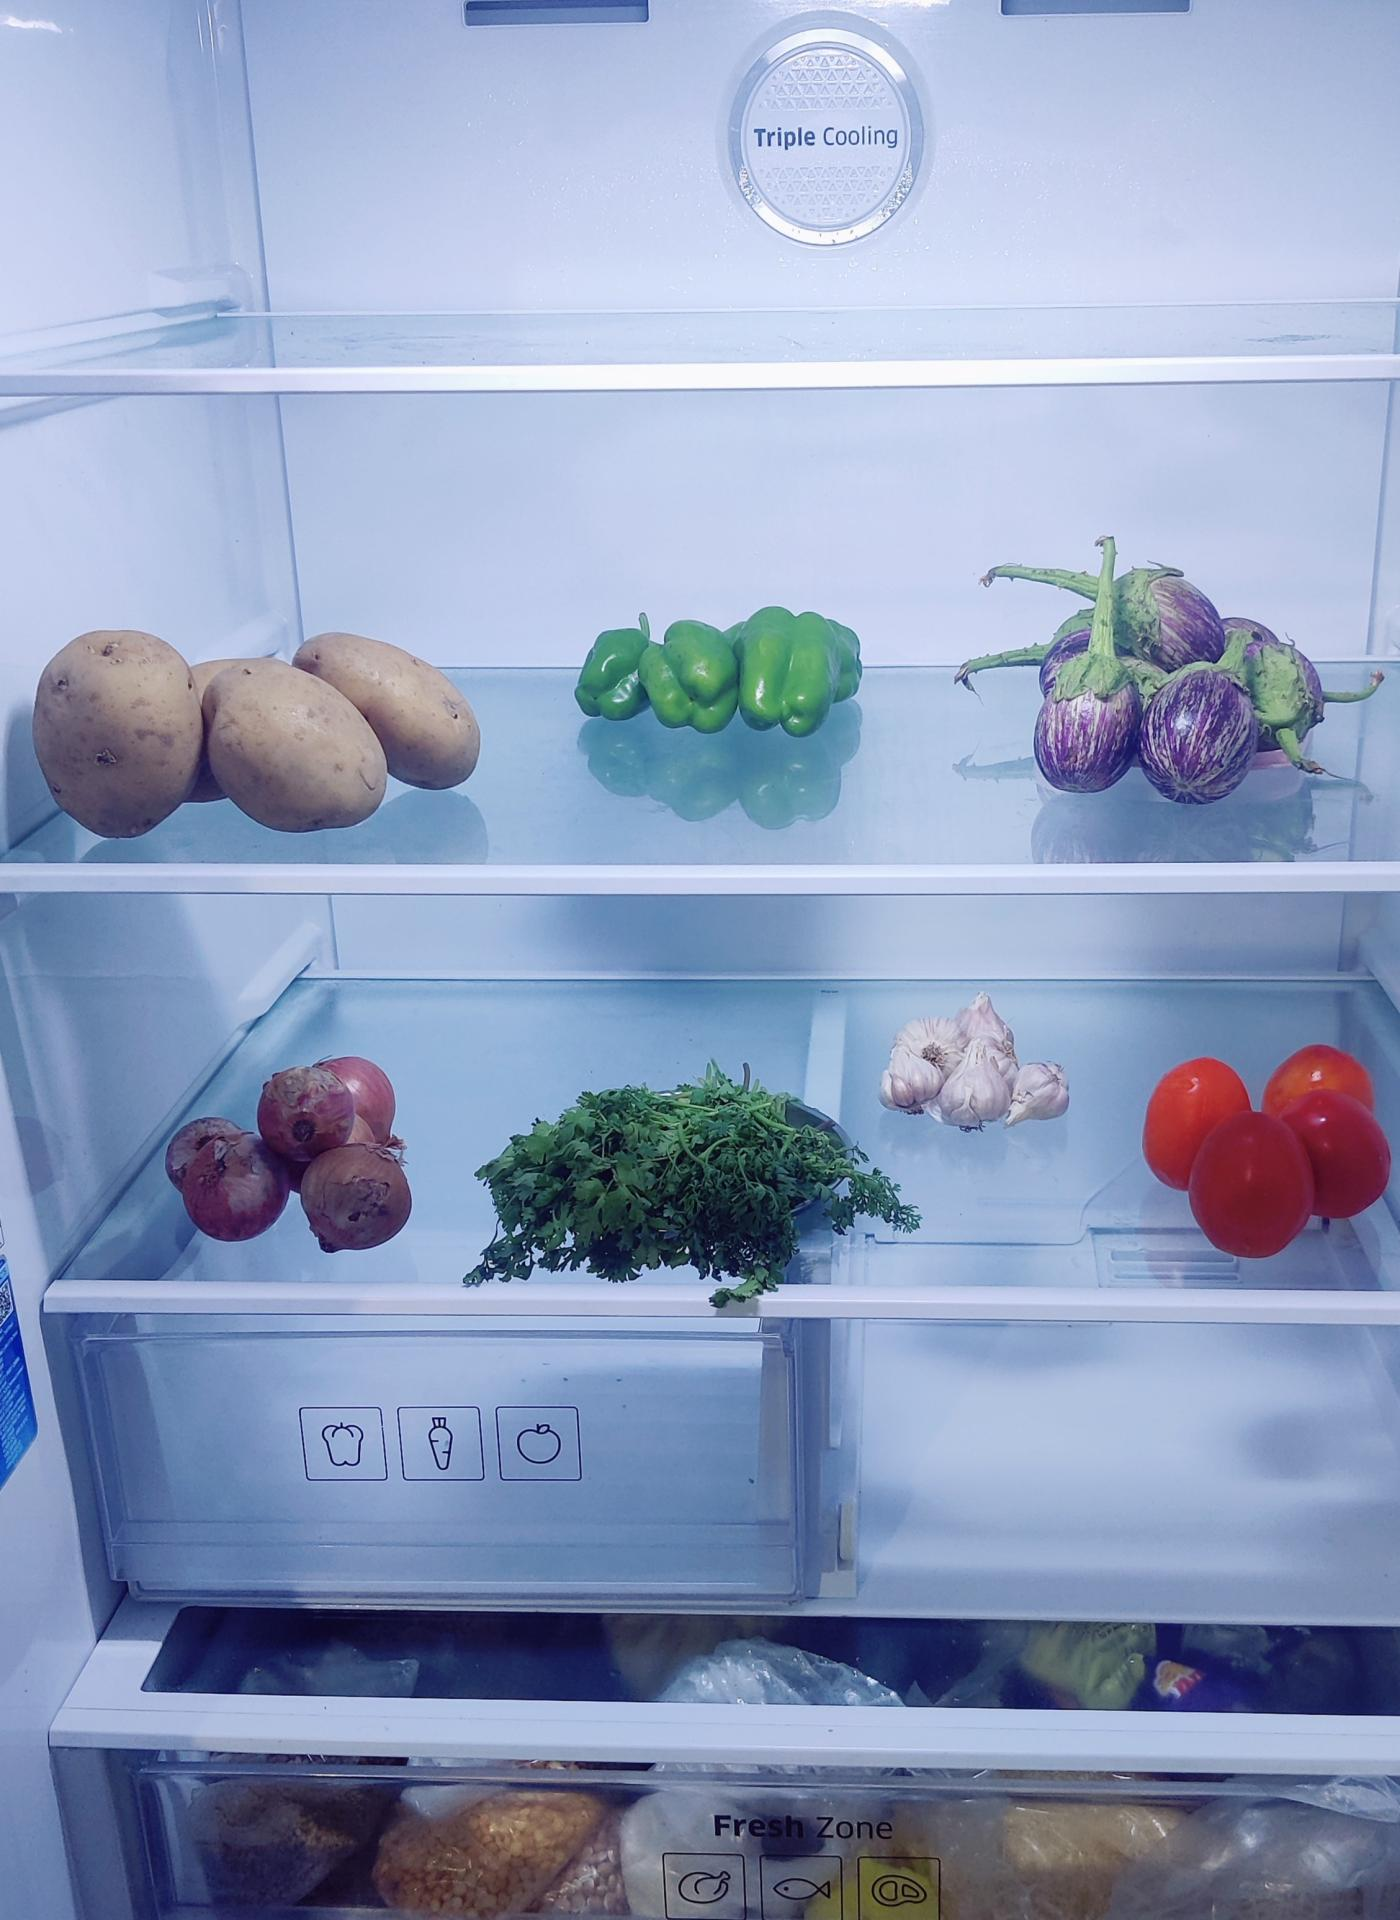brinjal: (983, 531, 1331, 790)
capsicum: (571, 604, 865, 732)
coriander: (477, 1081, 895, 1283)
garlic: (886, 996, 1069, 1128)
onion: (168, 1048, 417, 1243)
potato: (25, 613, 479, 830)
tomato: (1141, 1049, 1394, 1261)
